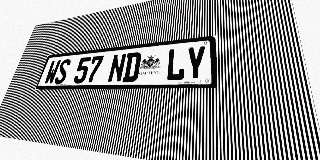5: (73, 57, 92, 83)
7: (85, 55, 104, 83)
D: (122, 52, 142, 82)
L: (165, 47, 186, 81)
N: (107, 53, 127, 83)
S: (53, 59, 72, 84)
W: (43, 60, 61, 84)
Y: (185, 45, 206, 80)
